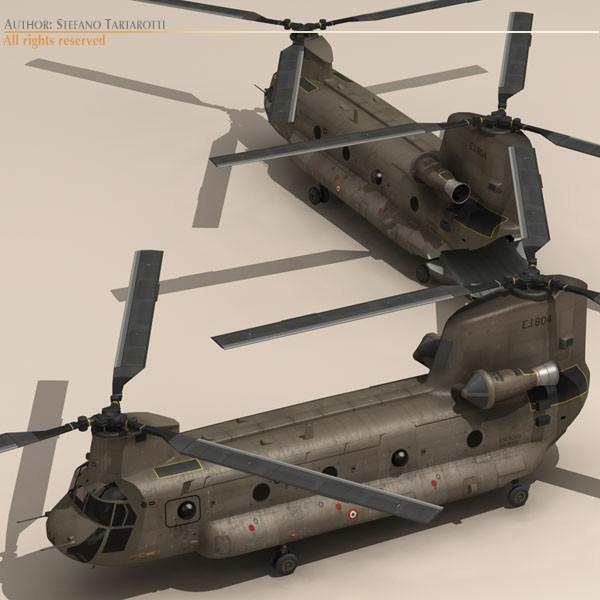chinook: (4, 268, 600, 574), (187, 5, 593, 268)
